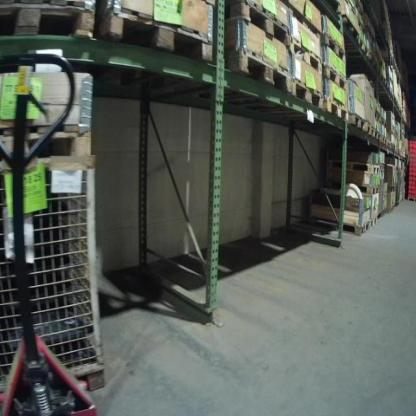pallet: (102, 0, 217, 65), (1, 126, 89, 179), (225, 44, 291, 100), (0, 2, 92, 37), (223, 0, 290, 46), (291, 0, 326, 46), (291, 78, 326, 118), (303, 217, 373, 237), (289, 45, 327, 78), (323, 59, 352, 93), (321, 93, 347, 128), (325, 27, 347, 68), (326, 161, 382, 176), (343, 12, 360, 54), (329, 183, 382, 194), (325, 0, 345, 25), (348, 111, 367, 137), (347, 1, 366, 18), (365, 49, 377, 74), (359, 34, 369, 60), (367, 119, 377, 143), (385, 203, 397, 216), (375, 110, 384, 124), (369, 215, 379, 227), (373, 133, 382, 143)
pallet_truck: (2, 40, 98, 413)
small_load_carrier: (409, 146, 416, 153), (408, 181, 416, 187), (409, 140, 416, 146), (408, 194, 416, 199), (408, 177, 416, 181), (410, 168, 415, 174), (409, 190, 416, 194), (409, 153, 416, 157), (410, 159, 415, 164), (409, 187, 416, 190), (410, 164, 415, 168), (410, 174, 416, 177), (409, 157, 415, 159)
stillage: (0, 149, 112, 408)
